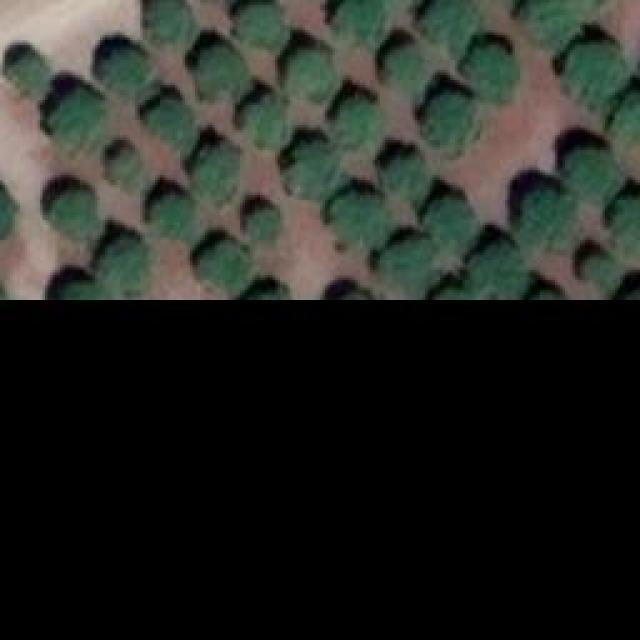Tree: (565, 43, 625, 108), (332, 193, 390, 248), (520, 193, 575, 248), (285, 143, 338, 198), (470, 243, 523, 298), (425, 93, 475, 148), (383, 238, 433, 293), (463, 45, 516, 95), (425, 0, 475, 52), (528, 0, 581, 48), (148, 100, 193, 155), (573, 150, 623, 198), (200, 47, 250, 95), (427, 200, 475, 250), (195, 148, 238, 201), (338, 0, 388, 45), (283, 53, 333, 98), (55, 90, 100, 140), (95, 245, 145, 290), (237, 3, 285, 48), (50, 195, 100, 238), (100, 48, 145, 93), (243, 100, 286, 145), (155, 192, 195, 240), (205, 245, 248, 288), (150, 0, 195, 40), (335, 98, 375, 141), (387, 48, 425, 88), (383, 160, 426, 195), (615, 198, 640, 258), (612, 95, 640, 145), (50, 277, 108, 299), (13, 52, 46, 90), (112, 145, 140, 188), (0, 183, 17, 243), (245, 207, 275, 235), (583, 258, 613, 283)
